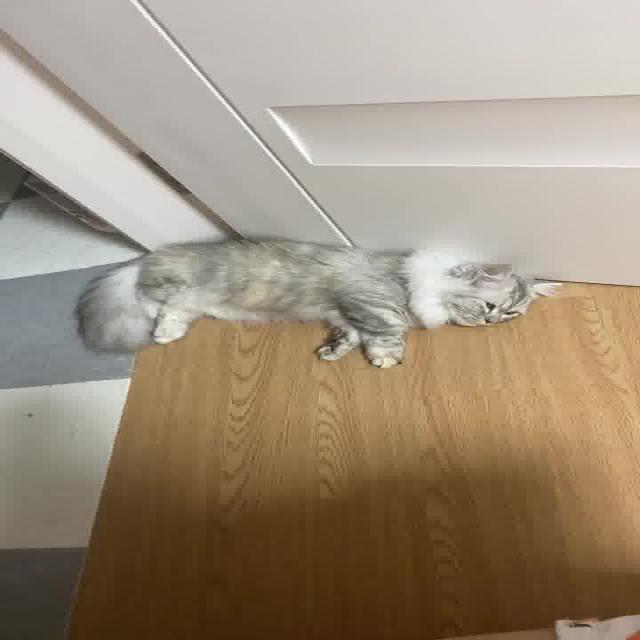cat: (56, 216, 581, 375)
